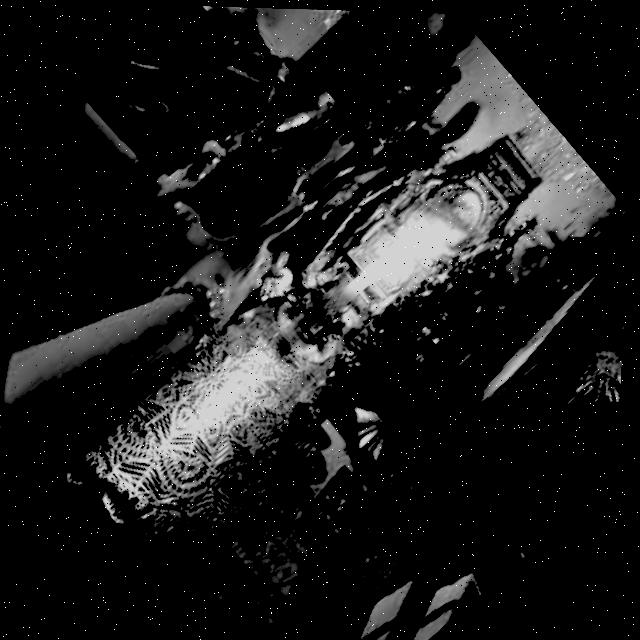Smoke: (375, 208, 444, 275)
